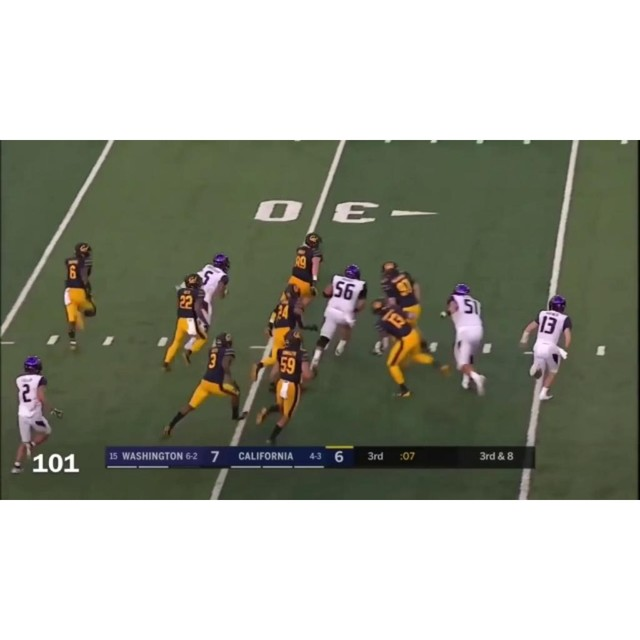american-football-player: (164, 332, 244, 438), (369, 298, 439, 399), (309, 264, 368, 377), (254, 330, 312, 442), (9, 355, 62, 475), (251, 286, 309, 384), (439, 284, 488, 394), (520, 297, 572, 399), (162, 273, 207, 371), (61, 243, 98, 350), (284, 232, 324, 325), (194, 253, 232, 342), (379, 260, 423, 321)
